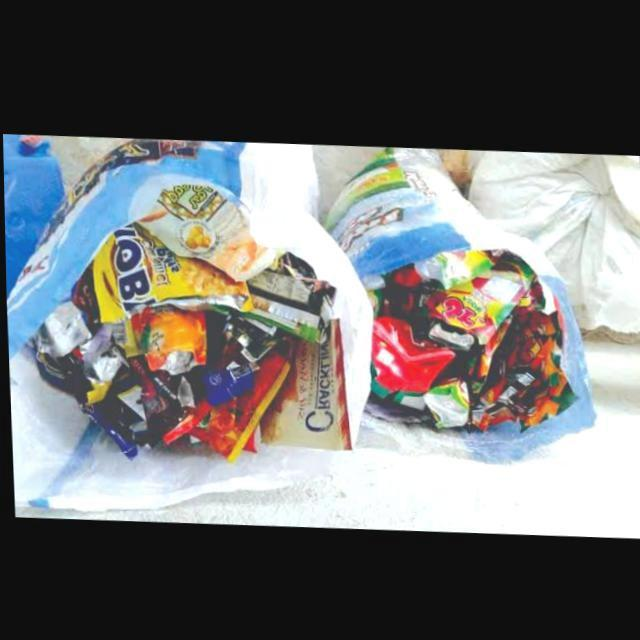food_wrapper: (161, 339, 289, 462), (92, 223, 244, 322), (136, 178, 285, 278), (256, 315, 349, 447), (423, 251, 540, 339), (369, 312, 453, 387), (140, 305, 205, 373)
